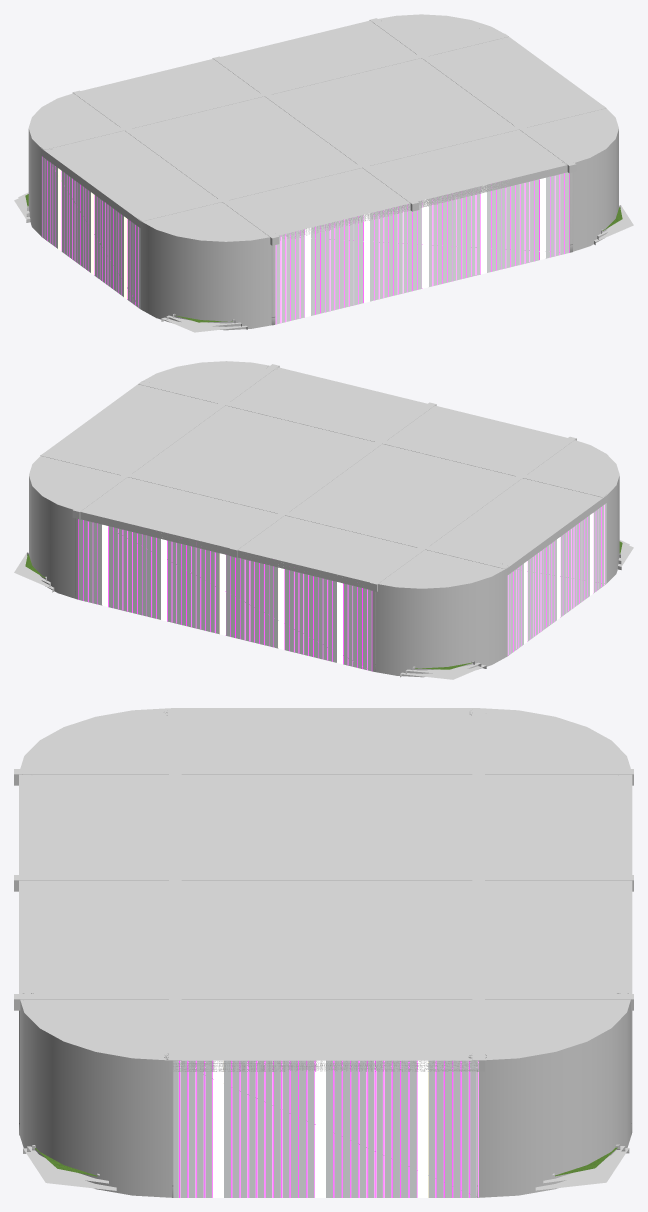
File: InteriorHall.fbx
3 renders of one model, top to bottom at view 1: azimuth 30°, elevation 25°; view 2: azimuth 150°, elevation 25°; view 3: azimuth 270°, elevation 25°, orthographic. The views are drawn at different scales.
Parts seen in each view (by area): view 1: Ceiling, Wall, TopPillar, Pillar; view 2: Ceiling, Wall, TopPillar, Pillar; view 3: Ceiling, Wall, TopPillar, Pillar.
Part boxes in pixels (x1,y1,x2,y2): Ceiling: (29,14,615,241); Wall: (28,129,618,330); TopPillar: (28,14,618,248); Pillar: (14,148,633,332); Ceiling: (29,361,615,588); Wall: (29,483,619,677); TopPillar: (29,361,619,595); Pillar: (14,366,633,679); Ceiling: (19,708,632,1060); Wall: (20,1000,632,1197); TopPillar: (14,708,633,1071); Pillar: (19,712,631,1197).
Size of the model in its own units: 6610 by 1203 by 4912.
